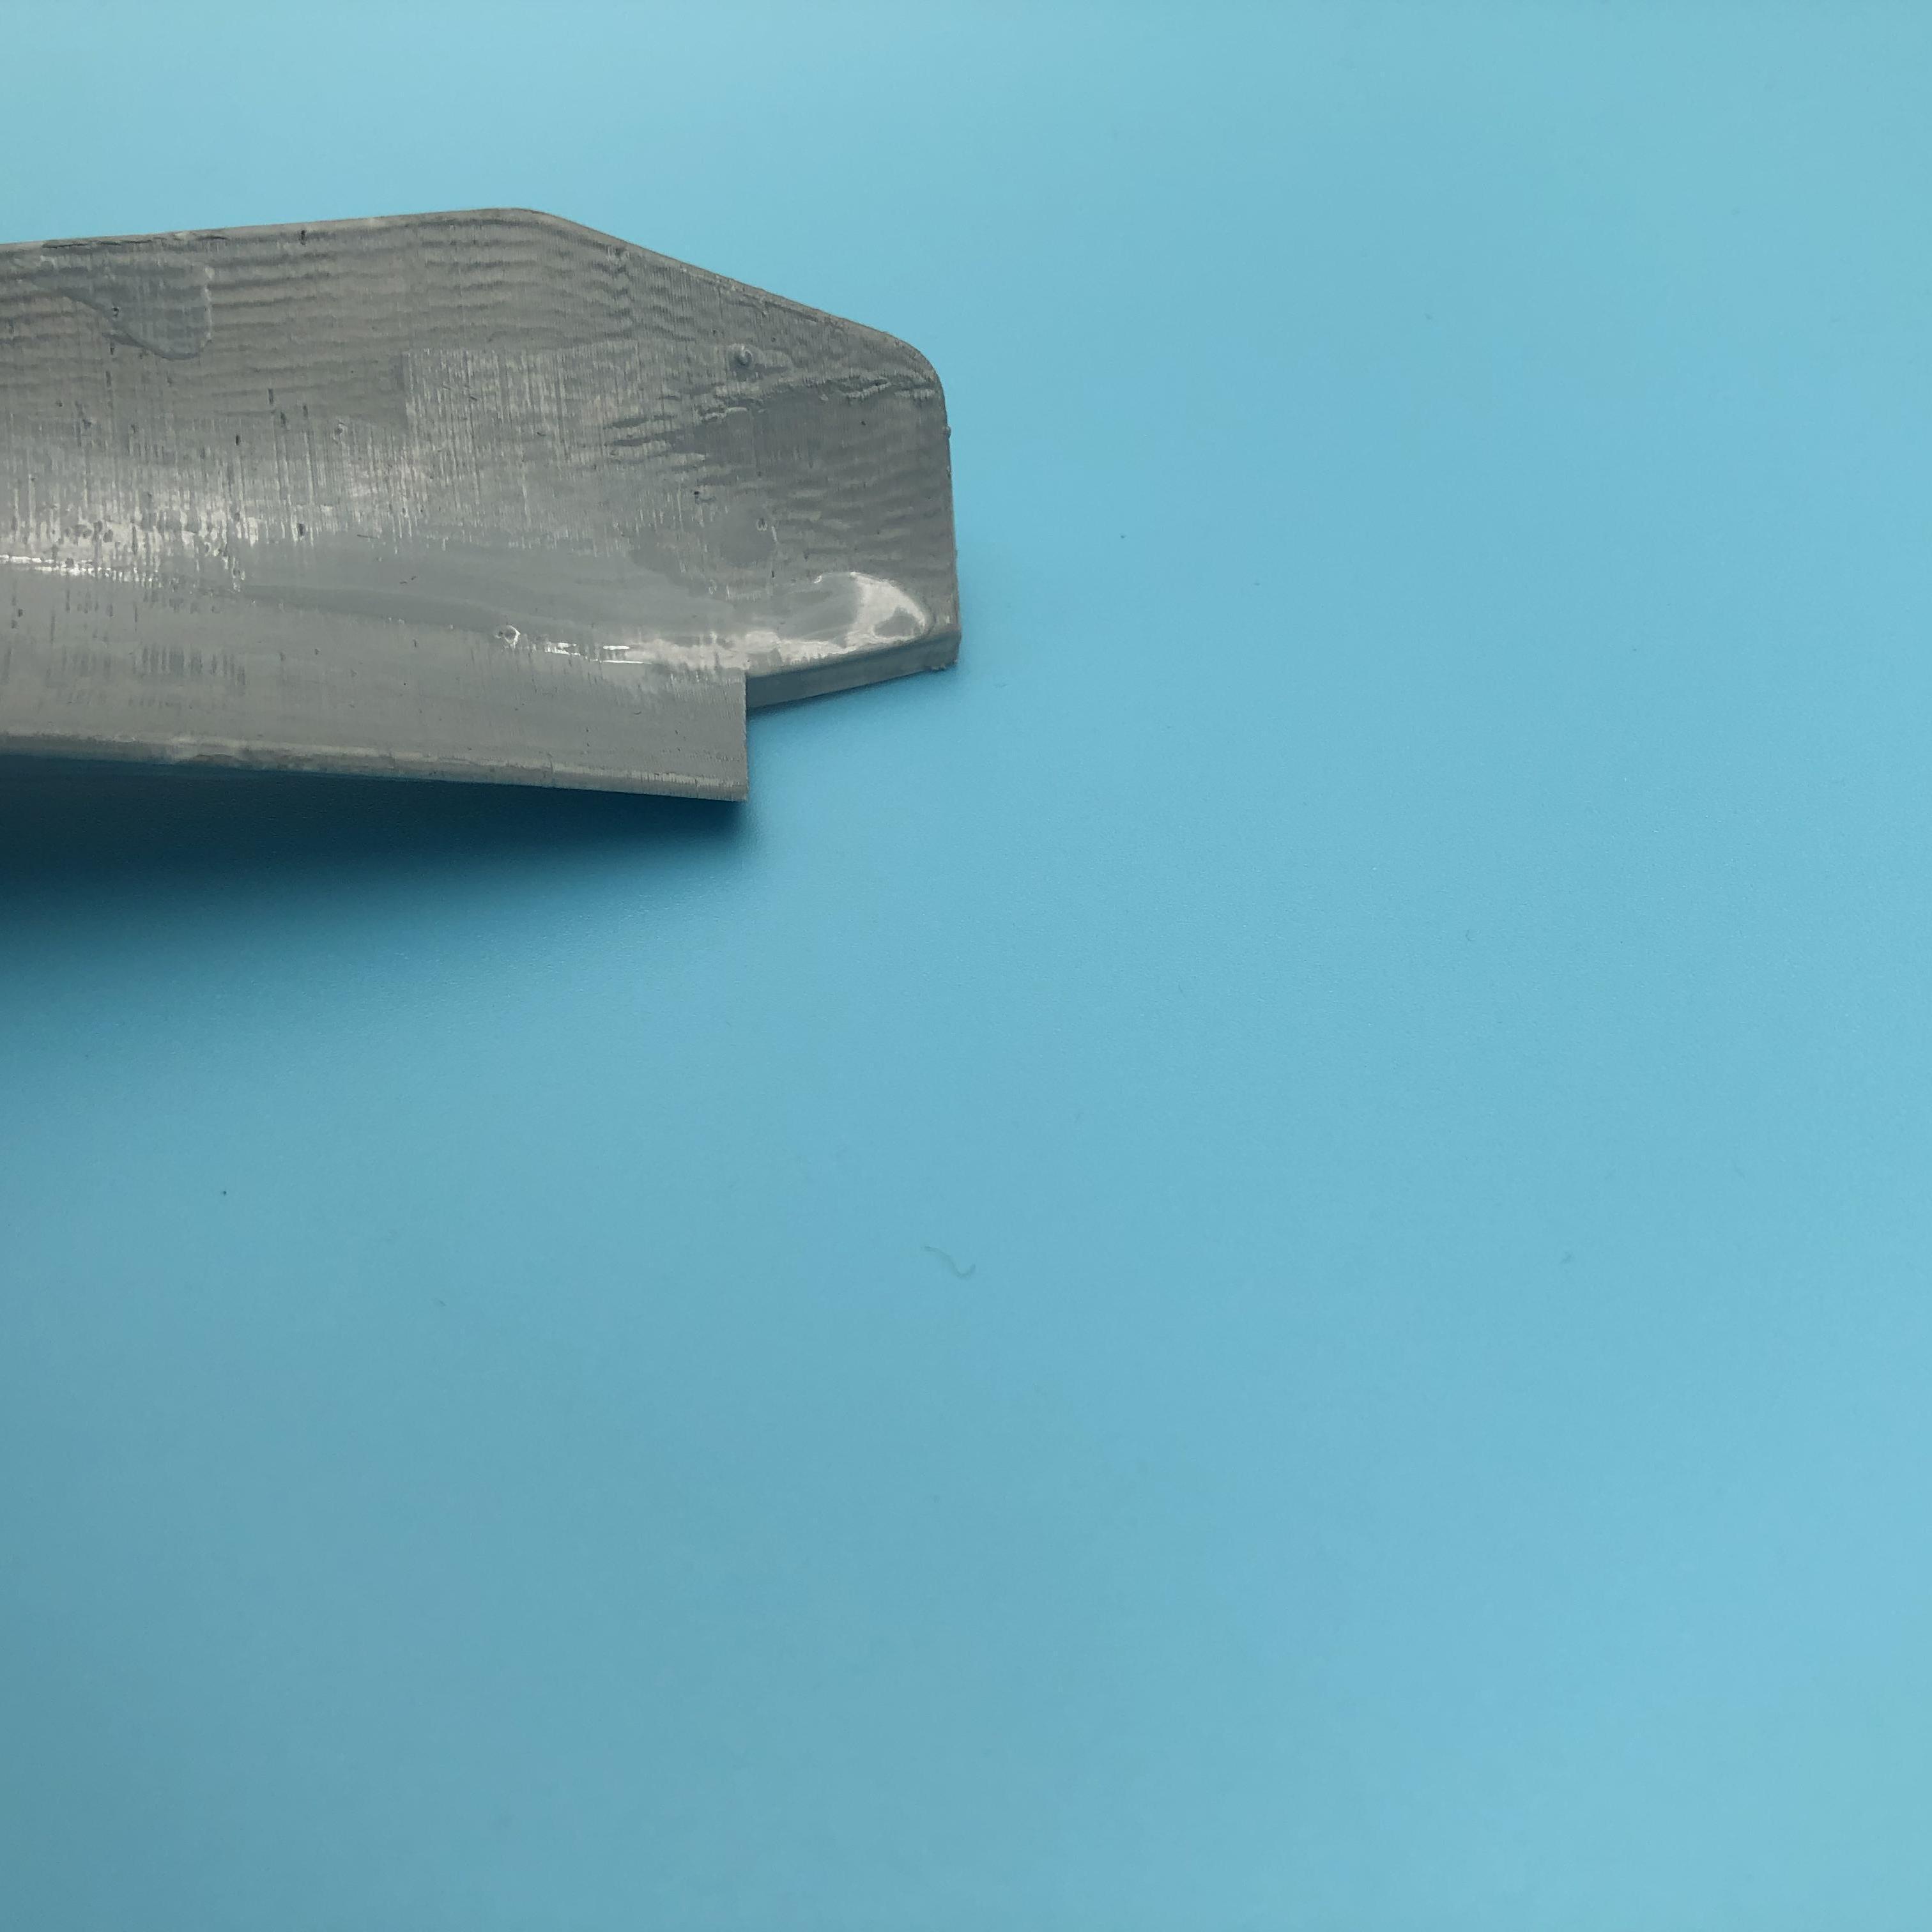fracture: (729, 635, 952, 814)
